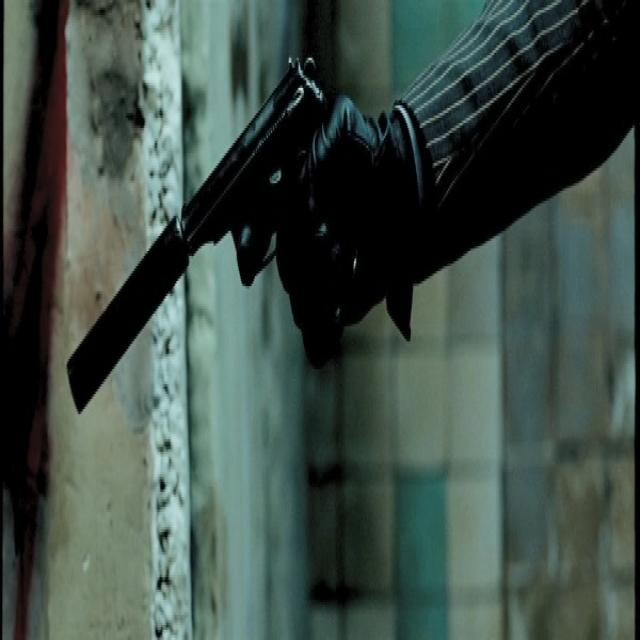weapons: (66, 36, 363, 414)
